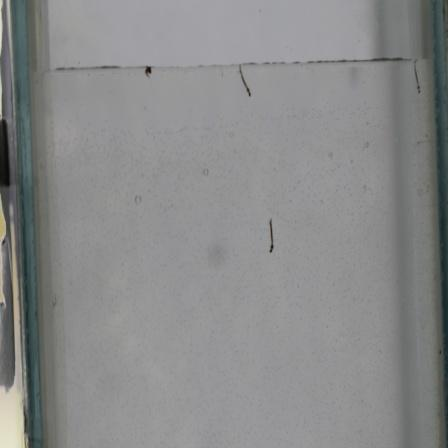Jentik-Nyamuk: (236, 62, 254, 100), (264, 214, 279, 259), (409, 58, 426, 97), (142, 63, 156, 83)
